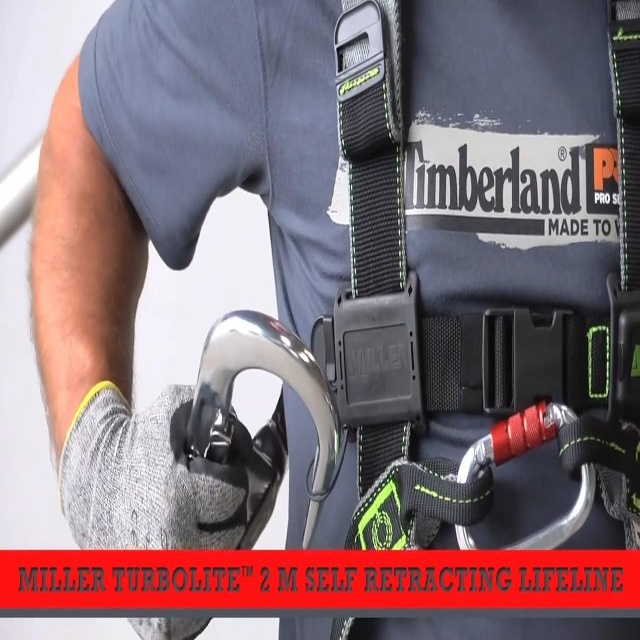Arnes_seguridad: (272, 0, 640, 554)
